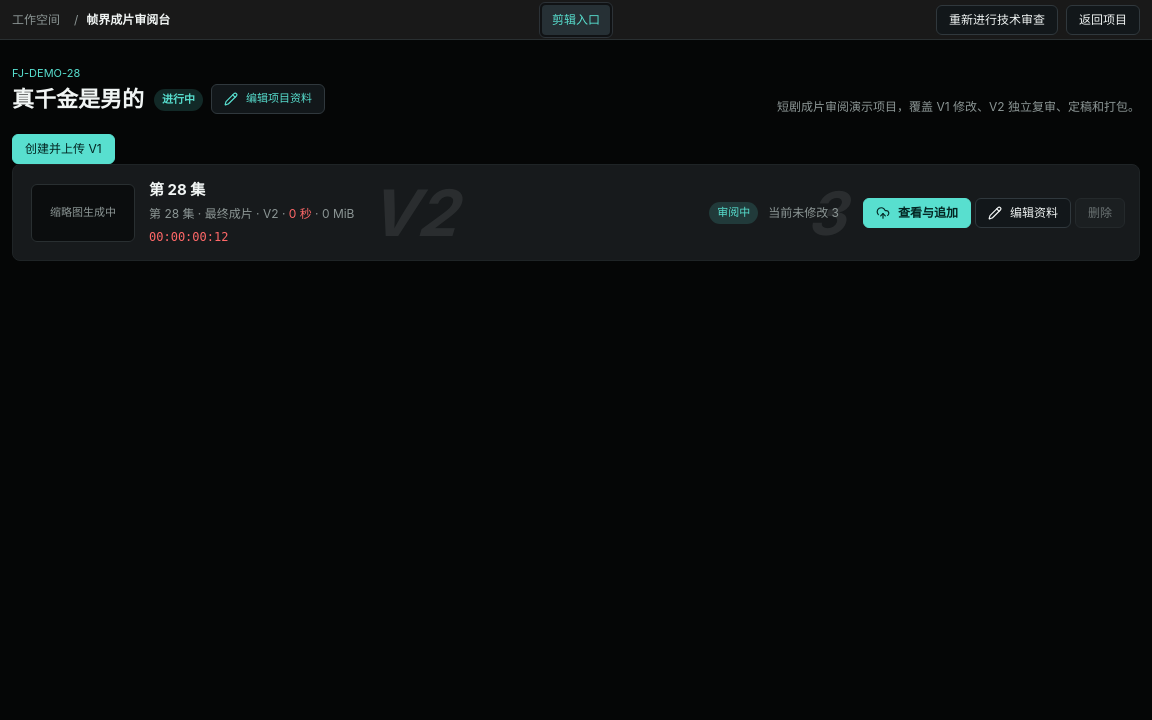
project and review item metadata editing › updates title and episode while keeping item_code readonly
Step 1. Click the button "编辑资料" → [1023, 213], box [975,198,1071,228]
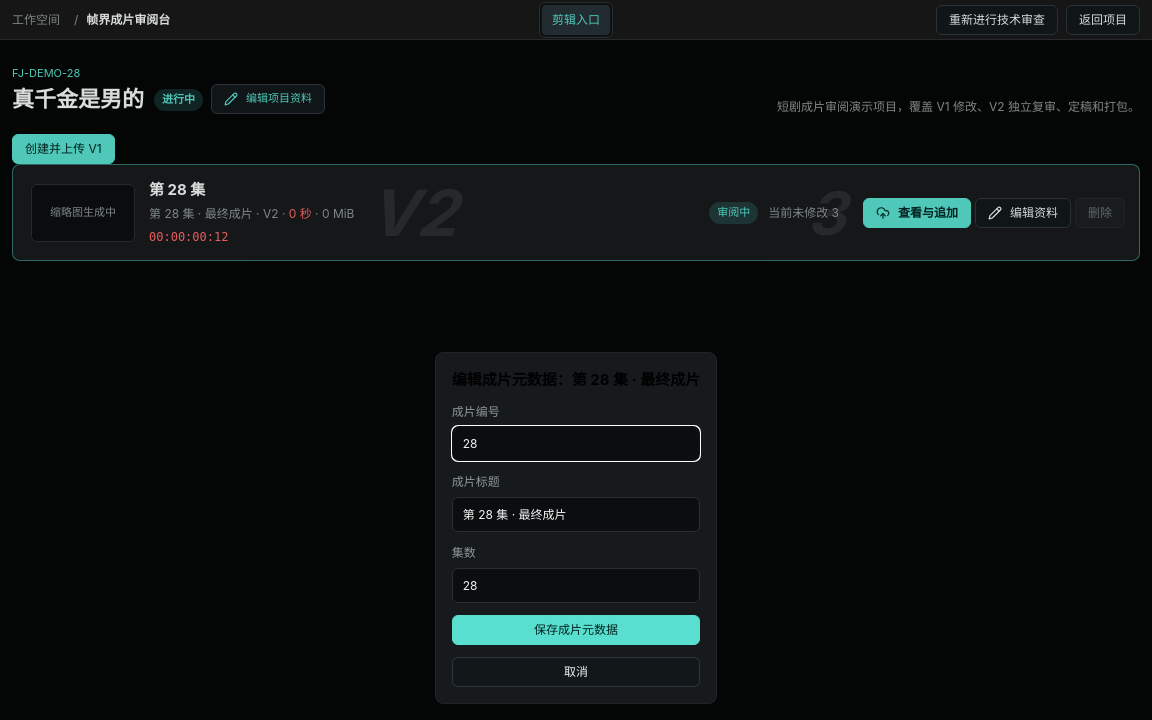
Check: the field labelled "成片编号" holds "28", box [452,426,700,461]
Step 2. Replace the text in the field labelled "成片标题" with "更新后的成片" → [576, 514], box [452,497,700,532]
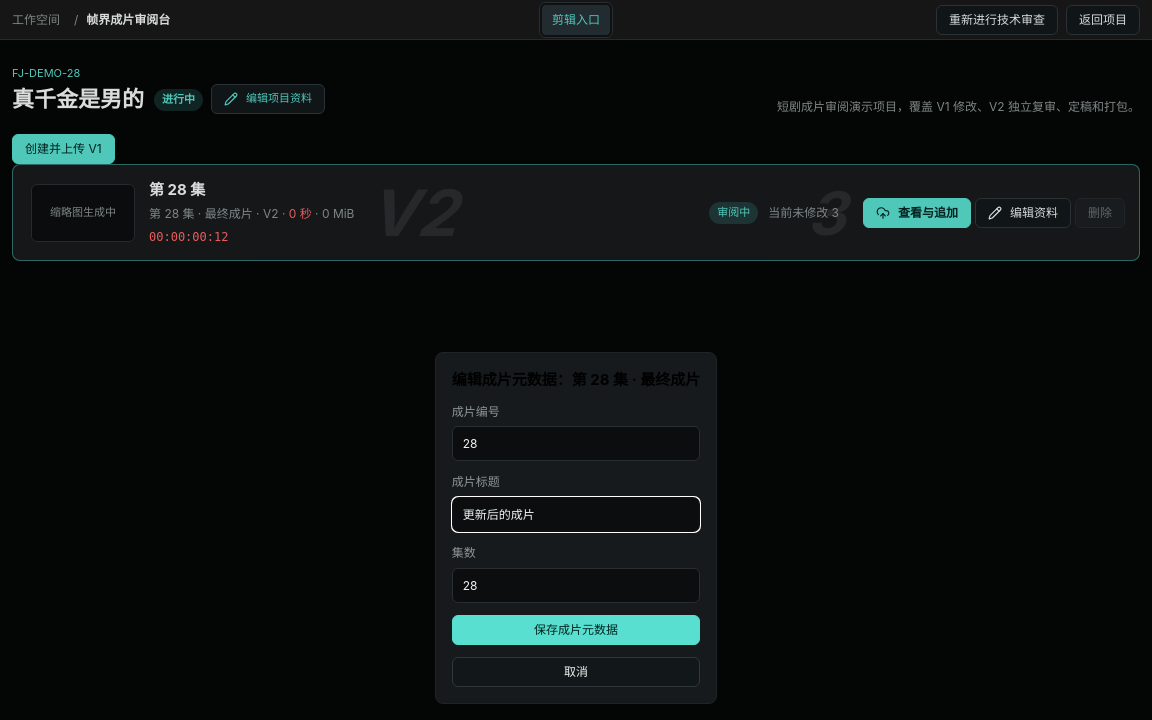
Step 3. Replace the text in the field labelled "集数" with "29" → [576, 585], box [452,568,700,603]
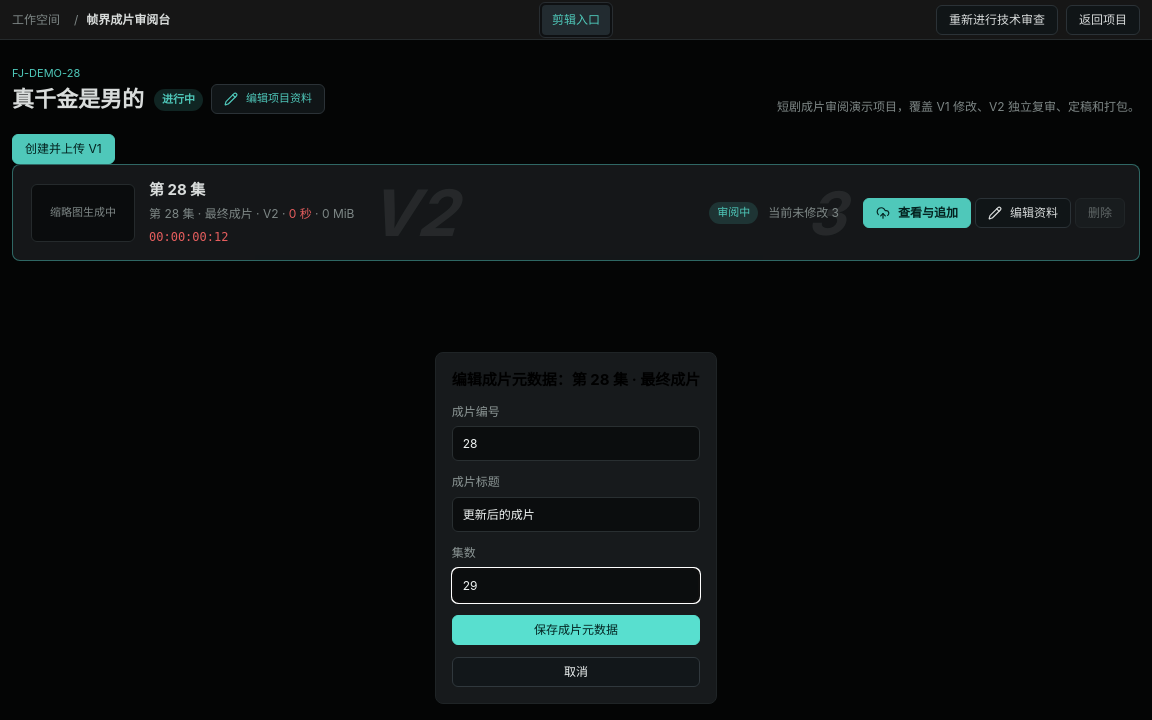
Step 4. Click the button "保存成片元数据" → [576, 630], box [452,615,700,645]
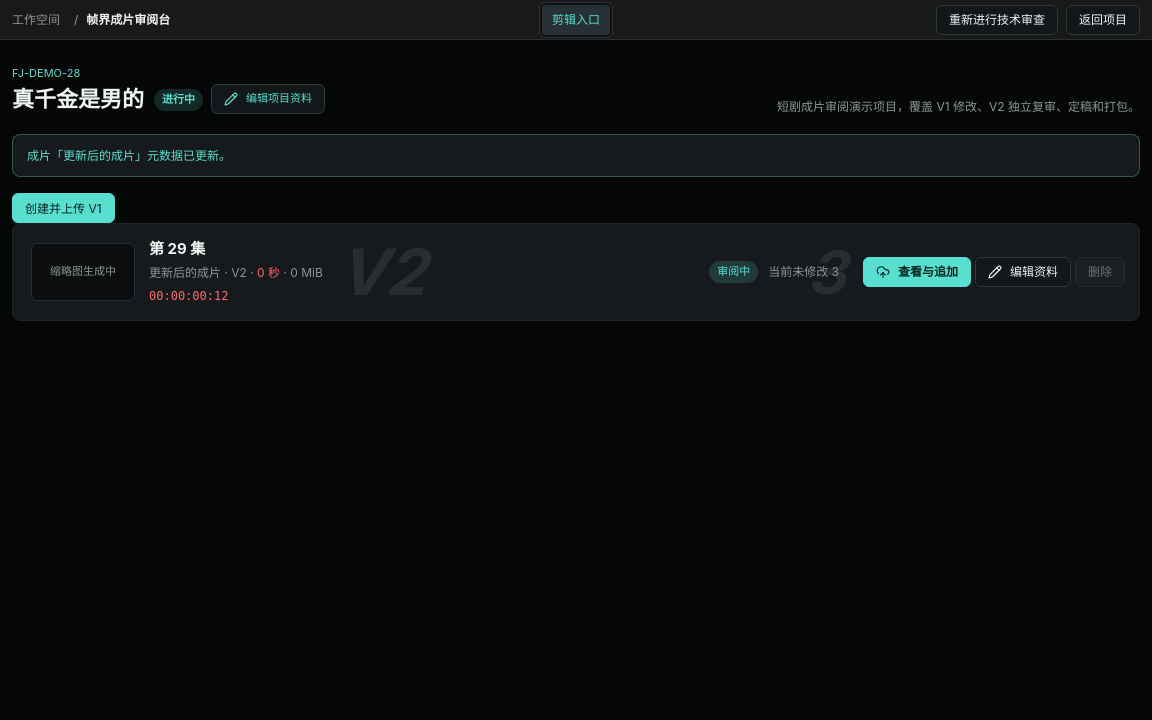
Check: the heading "编辑成片元数据" is not shown
Check: the text "成片「更新后的成片」元数据已更新。" is shown, box [12,134,1140,177]
Check: the element with test id "review-item-table" shows "第 29 集", box [12,223,1140,321]
